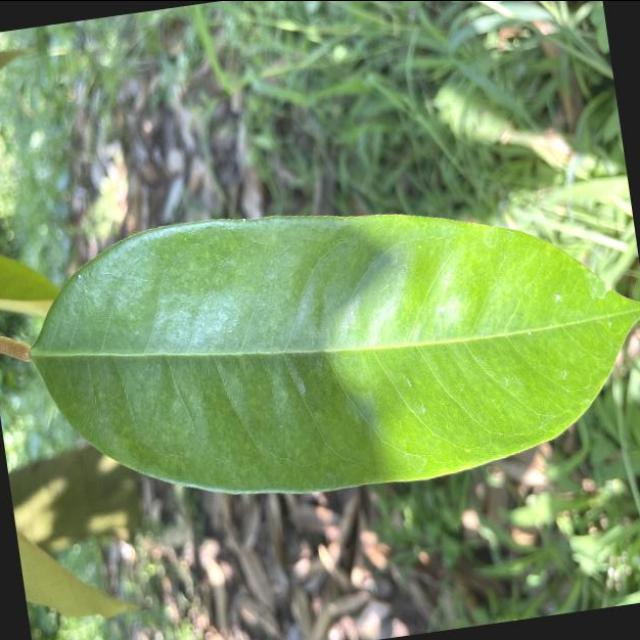No Disease: (1, 152, 640, 544)
